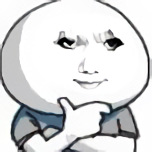dragon: (53, 28, 125, 90)
